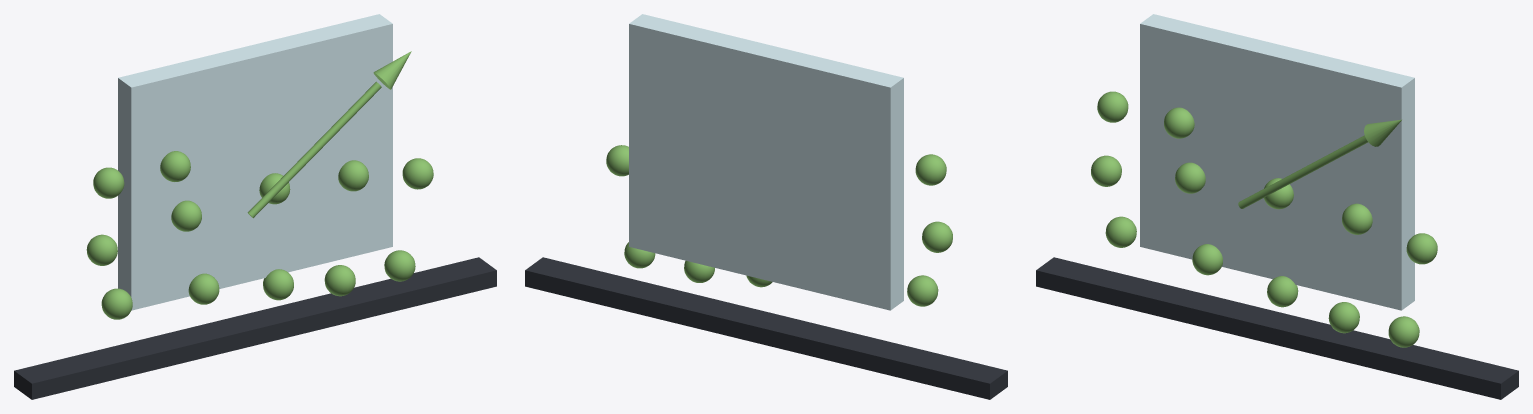
The model's file is chem-states-gas.glb.
3 views of the same model, side by side, from view 1: azimuth 30°, elevation 25°; view 2: azimuth 150°, elevation 25°; view 3: azimuth 330°, elevation 25° (orthographic).
Parts seen in each view (by area): view 1: gas-container-full-space, states-lab-bench, expansion-direction-shaft, far-apart-gas-particle-4, far-apart-gas-particle-0, far-apart-gas-particle-9, far-apart-gas-particle-3, far-apart-gas-particle-5, far-apart-gas-particle-10, far-apart-gas-particle-2, far-apart-gas-particle-8, far-apart-gas-particle-1 (+4 smaller); view 2: gas-container-full-space, states-lab-bench, far-apart-gas-particle-10, far-apart-gas-particle-0, far-apart-gas-particle-5, far-apart-gas-particle-9, far-apart-gas-particle-4, far-apart-gas-particle-3; view 3: gas-container-full-space, states-lab-bench, expansion-direction-shaft, far-apart-gas-particle-4, far-apart-gas-particle-9, far-apart-gas-particle-10, far-apart-gas-particle-0, far-apart-gas-particle-3, far-apart-gas-particle-5, far-apart-gas-particle-2, far-apart-gas-particle-8, far-apart-gas-particle-11 (+4 smaller).
Part boxes in pixels (<box>): gas-container-full-space: <box>118,14,392,310</box>; states-lab-bench: <box>14,257,496,399</box>; expansion-direction-shaft: <box>247,81,381,218</box>; far-apart-gas-particle-4: <box>384,250,415,281</box>; far-apart-gas-particle-0: <box>101,288,132,319</box>; far-apart-gas-particle-9: <box>402,158,433,189</box>; far-apart-gas-particle-3: <box>324,265,355,296</box>; far-apart-gas-particle-5: <box>86,234,117,265</box>; far-apart-gas-particle-10: <box>93,167,124,198</box>; far-apart-gas-particle-2: <box>263,269,293,300</box>; far-apart-gas-particle-8: <box>338,160,368,191</box>; far-apart-gas-particle-1: <box>188,273,219,304</box>; gas-container-full-space: <box>629,14,903,310</box>; states-lab-bench: <box>525,257,1007,399</box>; far-apart-gas-particle-10: <box>915,154,946,185</box>; far-apart-gas-particle-0: <box>907,275,938,306</box>; far-apart-gas-particle-5: <box>922,221,952,252</box>; far-apart-gas-particle-9: <box>606,145,628,176</box>; far-apart-gas-particle-4: <box>624,242,655,268</box>; far-apart-gas-particle-3: <box>684,261,714,282</box>; gas-container-full-space: <box>1140,14,1414,310</box>; states-lab-bench: <box>1036,257,1518,399</box>; expansion-direction-shaft: <box>1238,135,1367,208</box>; far-apart-gas-particle-4: <box>1388,316,1419,347</box>; far-apart-gas-particle-9: <box>1406,233,1437,264</box>; far-apart-gas-particle-10: <box>1097,91,1128,122</box>; far-apart-gas-particle-0: <box>1105,216,1136,247</box>; far-apart-gas-particle-3: <box>1328,302,1359,333</box>; far-apart-gas-particle-5: <box>1091,155,1121,186</box>; far-apart-gas-particle-2: <box>1267,276,1298,307</box>; far-apart-gas-particle-8: <box>1342,203,1372,234</box>; far-apart-gas-particle-11: <box>1164,107,1194,138</box>.
Size of what is drawn, in the model's own units: 2.4 by 1.41 by 0.2758.
